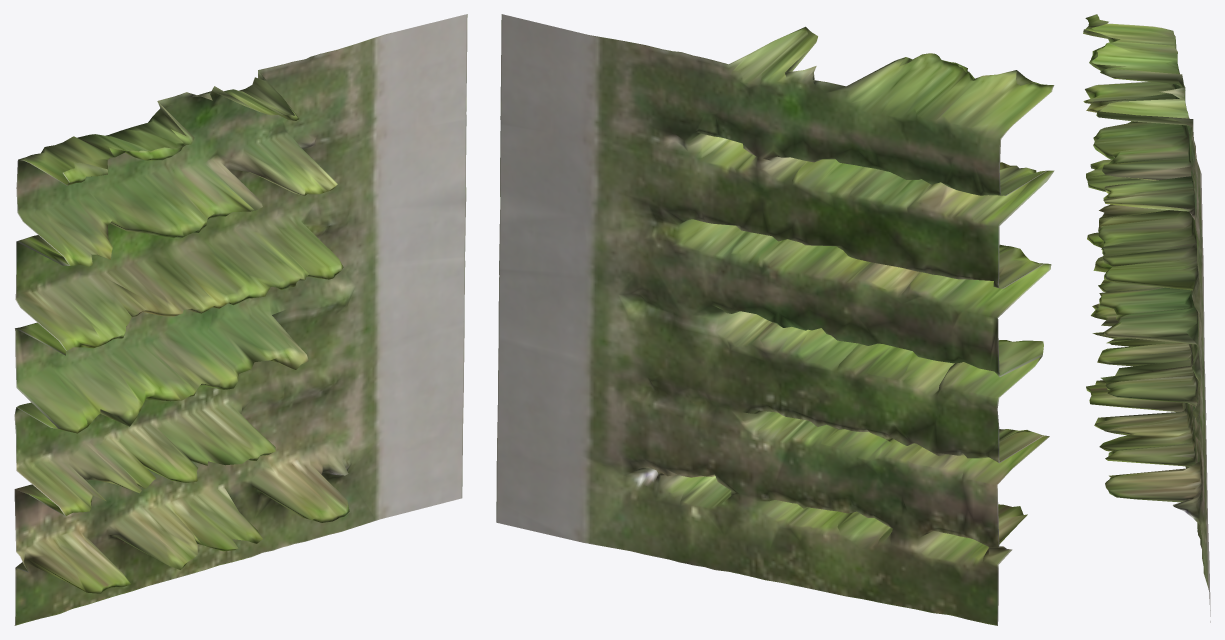
The model's file is map_120_80.obj.
The picture shows the model from 3 angles, left to right: view 1: azimuth 30°, elevation 25°; view 2: azimuth 150°, elevation 25°; view 3: azimuth 270°, elevation 25°; orthographic projection. The views are drawn at different scales.
Visible parts, largest first — view 1: map_120_80.obj; view 2: map_120_80.obj; view 3: map_120_80.obj.
Part boxes in pixels (box(x1,y1,x2,y2)): map_120_80.obj: box(14, 14, 467, 625); map_120_80.obj: box(496, 14, 1054, 625); map_120_80.obj: box(1083, 14, 1210, 622).
Bounding box in the file's own units: 10 × 10 × 2.78.
1 material, 1 textured.
